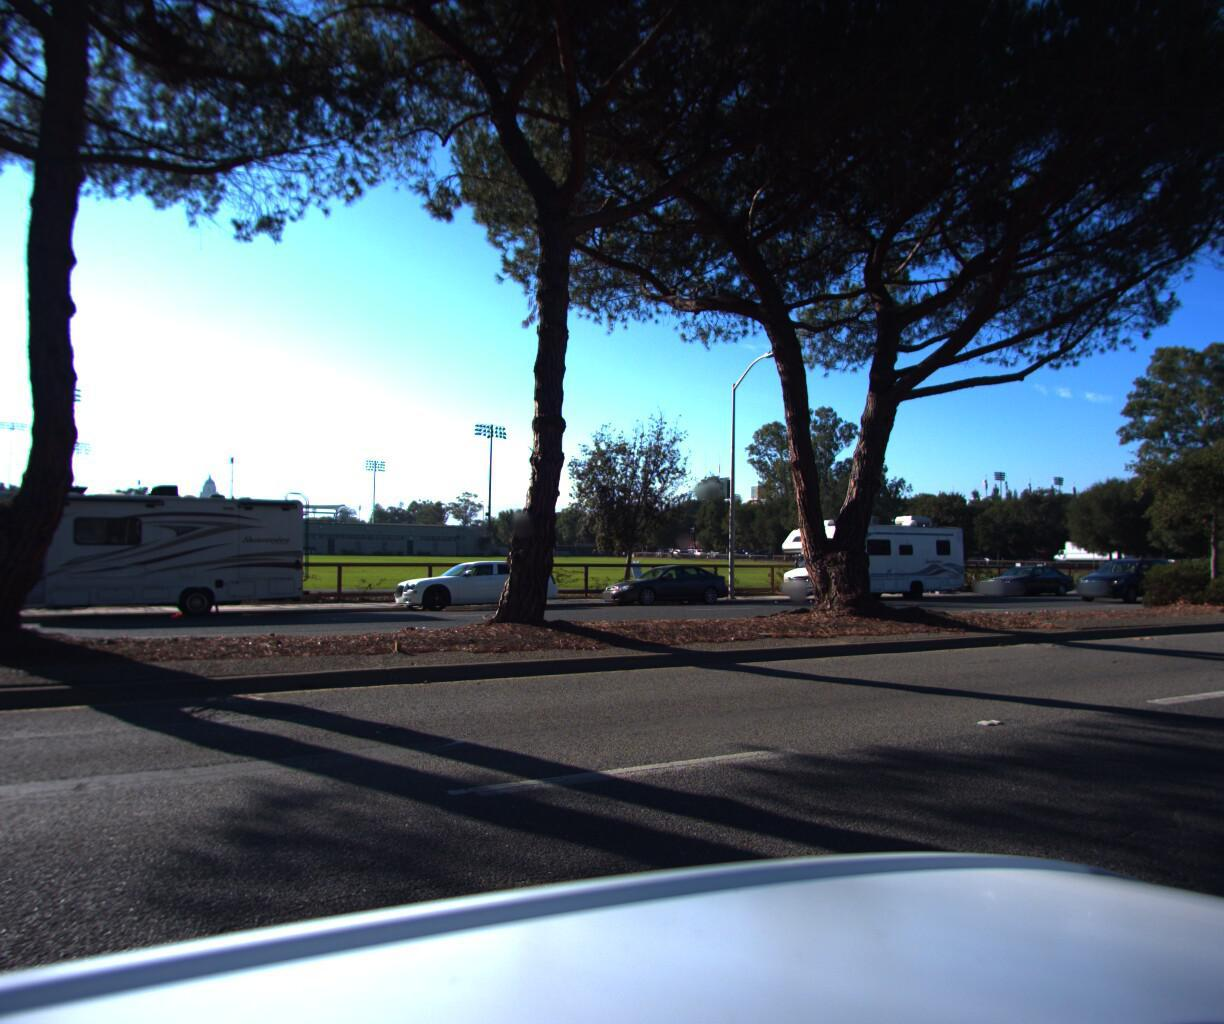car: (382, 561, 564, 617), (586, 564, 735, 612), (1058, 553, 1174, 603), (967, 563, 1078, 600)
other_vehicle: (0, 467, 314, 633), (761, 504, 970, 604)
